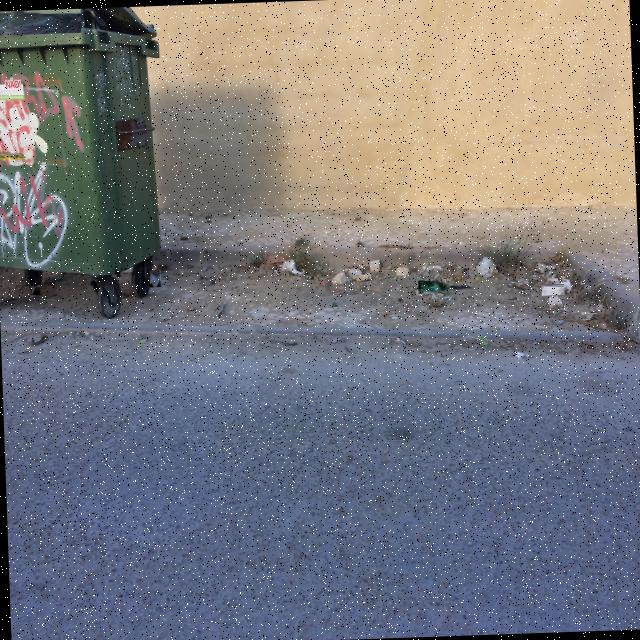Broken glass: (333, 301, 336, 305)
Cigarette: (150, 270, 160, 287), (480, 338, 486, 342), (395, 338, 400, 342), (84, 331, 88, 334), (511, 298, 516, 299)
Clear plastic bottle: (419, 281, 445, 293)
Garbage bag: (0, 10, 81, 35)
Normal paper: (282, 259, 294, 272), (464, 268, 469, 277)
Other plastic bottle: (31, 285, 40, 294), (138, 339, 146, 343), (398, 298, 402, 301)
Other plastic cup: (541, 285, 564, 295)
Unlabeled litter: (534, 262, 556, 272), (582, 311, 595, 319), (291, 269, 304, 275), (516, 352, 525, 357), (585, 285, 592, 290), (433, 266, 441, 270), (588, 345, 593, 349), (308, 277, 313, 279)
